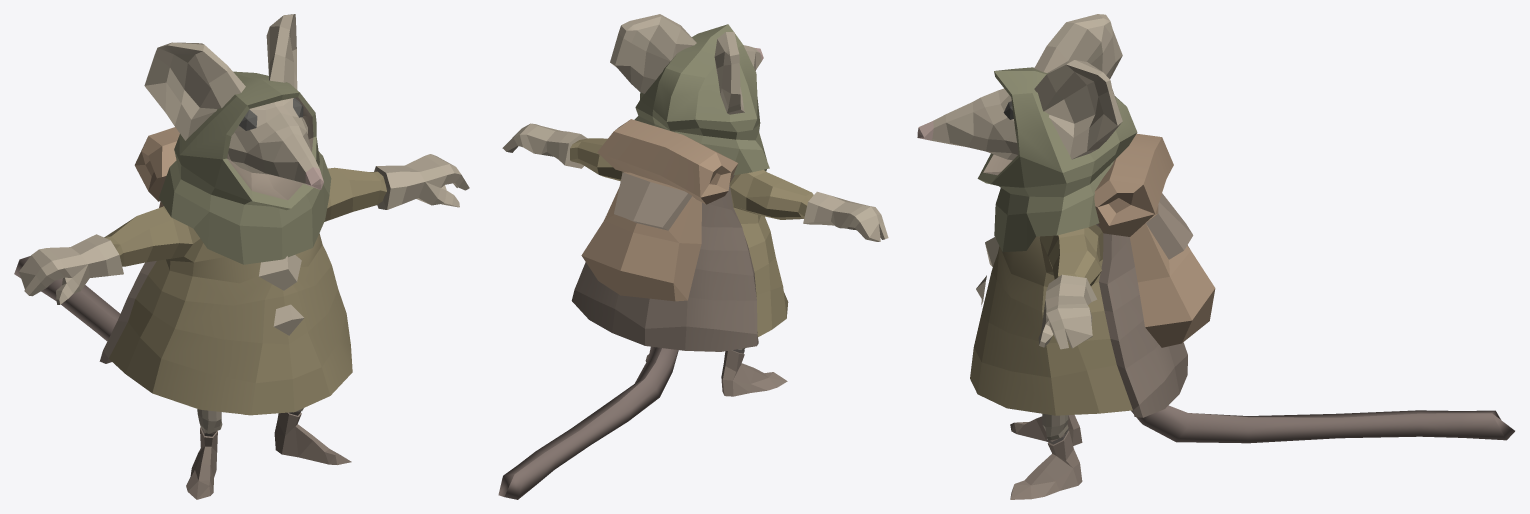
File: CH_Ticky_01.fbx
The picture shows the model from 3 angles, left to right: view 1: azimuth 30°, elevation 25°; view 2: azimuth 150°, elevation 25°; view 3: azimuth 270°, elevation 25°; orthographic projection. The views are drawn at different scales.
Parts seen in each view (by area): view 1: Strider8; view 2: Strider8; view 3: Strider8.
Part boxes in pixels (left/top/right/bottom): Strider8: left=14, top=14, right=469, bottom=499; Strider8: left=498, top=14, right=888, bottom=499; Strider8: left=917, top=14, right=1514, bottom=499.
Size of the model in its own units: 145 by 133 by 171.
